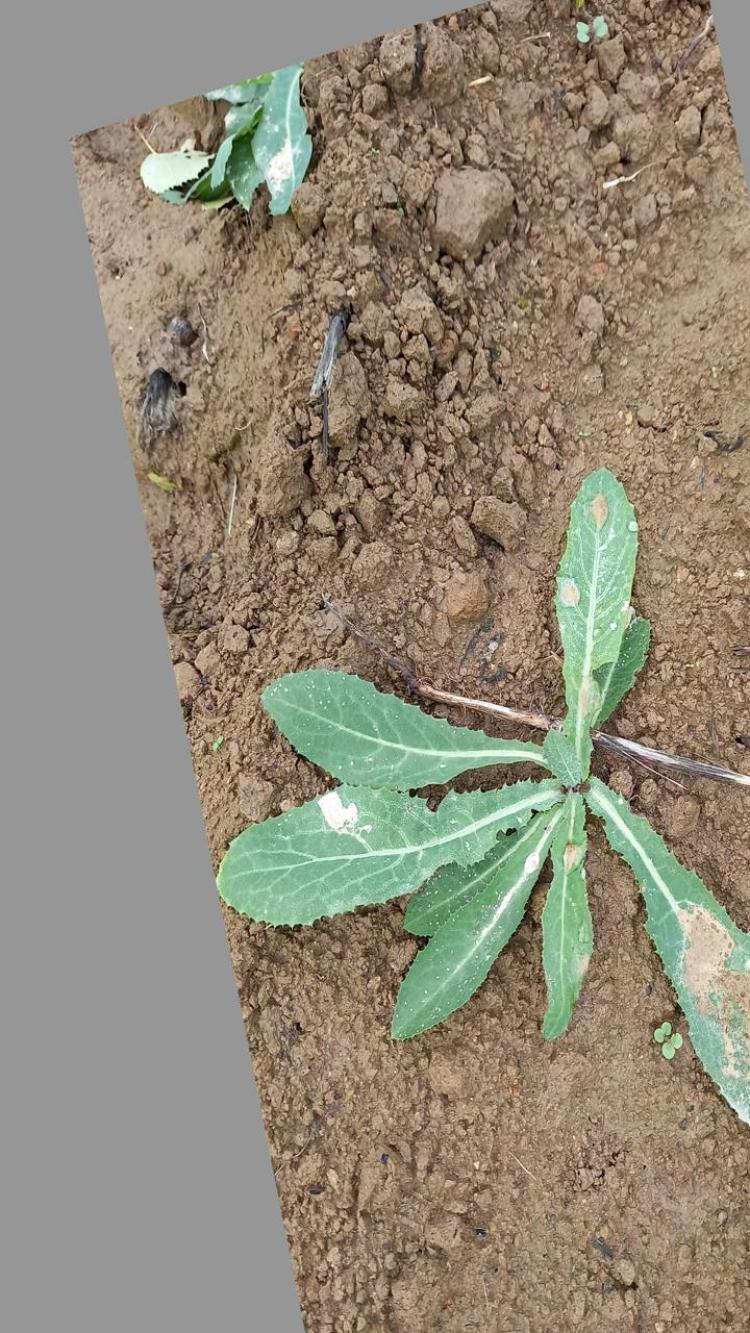osot: (208, 462, 750, 1131)
